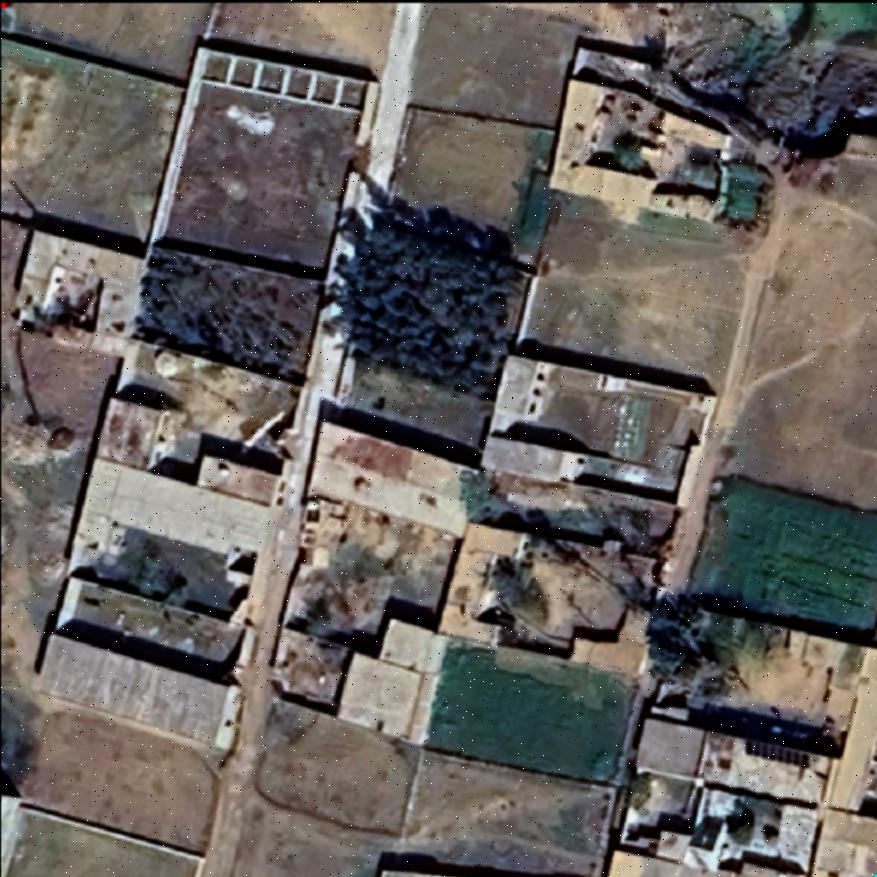Solarpanel: (741, 738, 814, 773)
